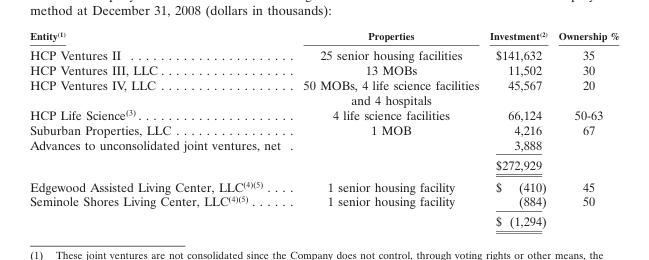table: (29, 29, 618, 228)
table column: (29, 29, 291, 228), (291, 29, 483, 228), (483, 29, 552, 228), (552, 29, 618, 228)
table column header: (29, 29, 618, 44)
table row: (29, 77, 618, 107), (29, 154, 618, 175), (29, 44, 618, 62), (29, 136, 618, 154), (29, 175, 618, 193), (29, 193, 618, 211), (29, 211, 618, 228), (29, 29, 618, 44), (29, 62, 618, 77), (29, 121, 618, 136), (29, 107, 618, 121)
table spanning cell: (29, 136, 291, 175), (29, 193, 291, 228)
